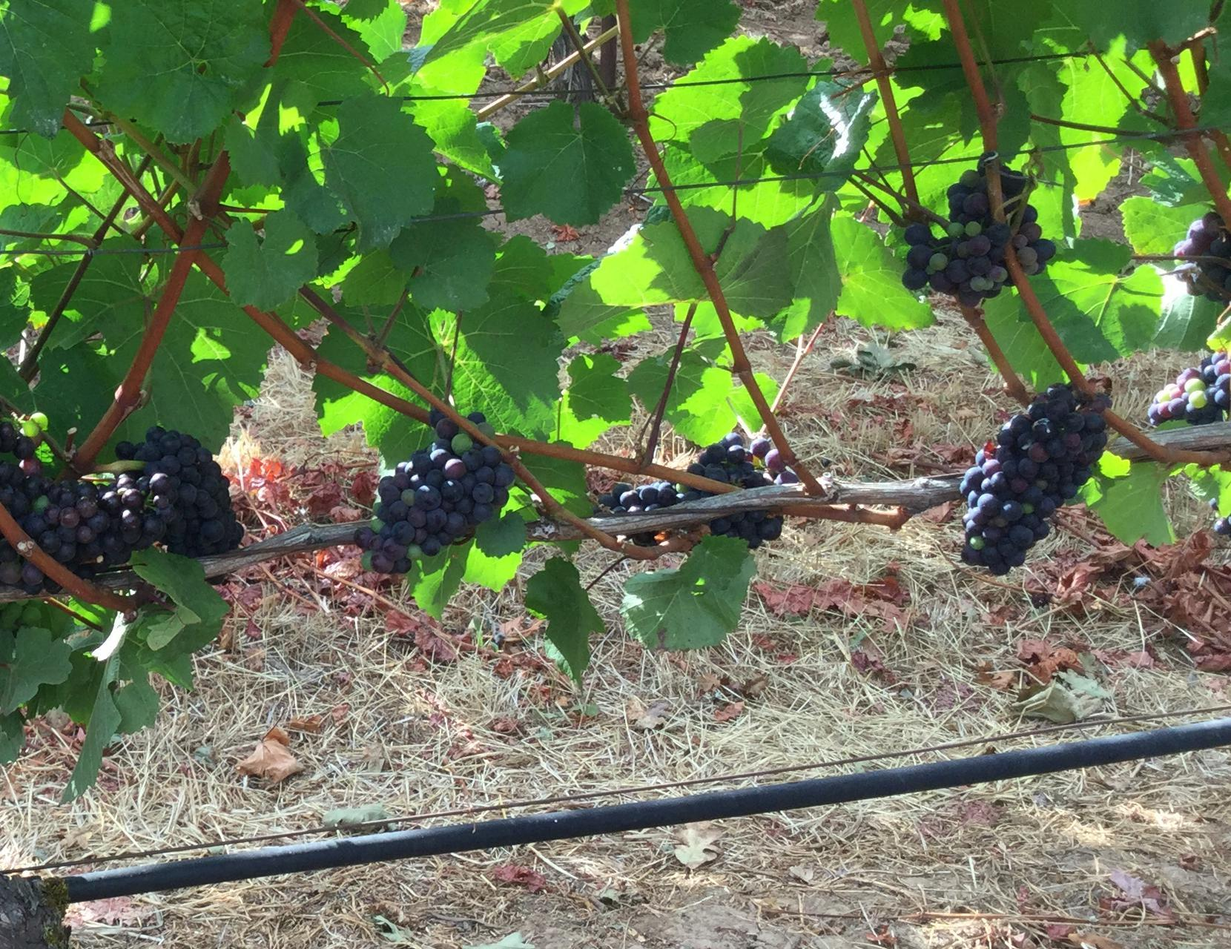Grape Ripe: (932, 371, 1109, 581), (354, 388, 540, 581), (108, 414, 262, 577), (674, 417, 824, 559), (0, 430, 124, 593), (1170, 219, 1231, 298)
